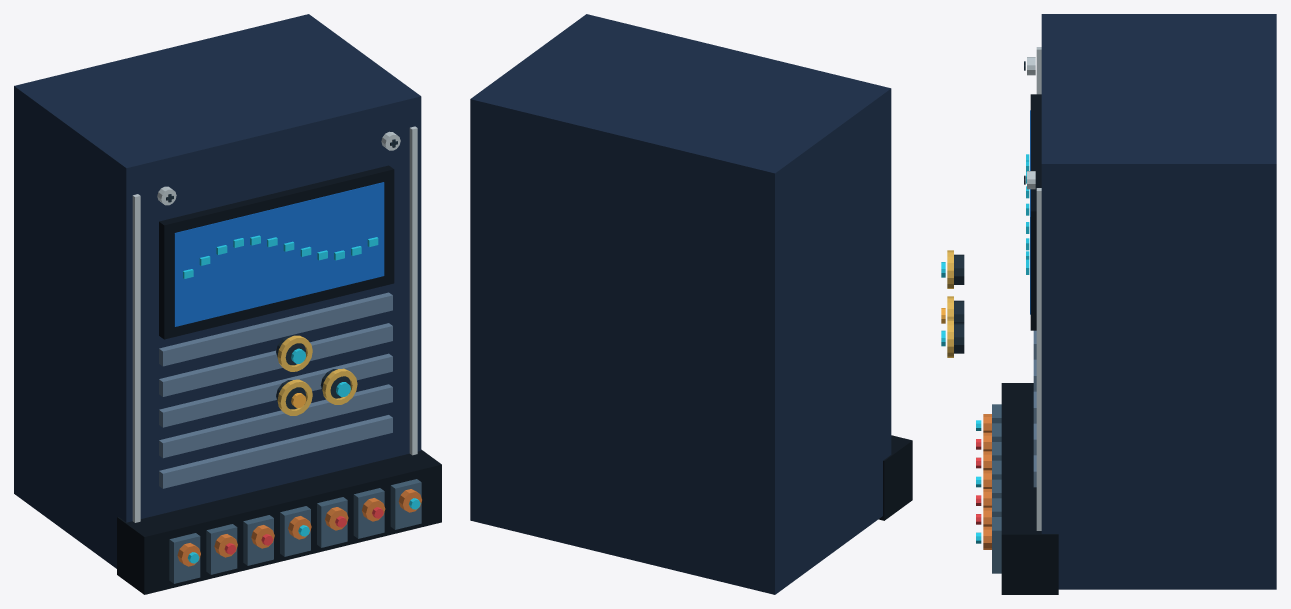
The model's file is 61_L83_ContingencyPowerFaultInjector.fbx.
3 renders of one model, left to right at view 1: azimuth 30°, elevation 25°; view 2: azimuth 150°, elevation 25°; view 3: azimuth 270°, elevation 25°, orthographic. The views are drawn at different scales.
Visible parts, largest first — view 1: ContingencyPowerFaultInjector; view 2: ContingencyPowerFaultInjector; view 3: ContingencyPowerFaultInjector.
Part boxes in pixels (x1,y1,x2,y2): ContingencyPowerFaultInjector: [14, 14, 441, 594]; ContingencyPowerFaultInjector: [470, 14, 912, 594]; ContingencyPowerFaultInjector: [941, 14, 1276, 594].
Bounding box in the file's own units: 113 × 150 × 106.
